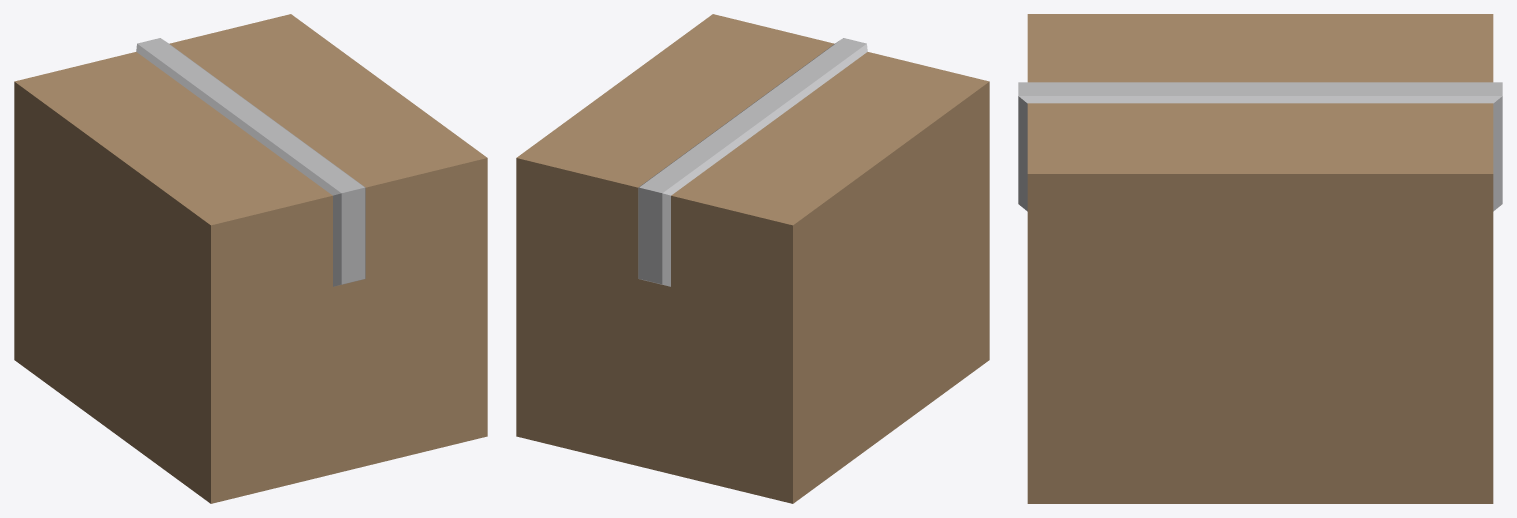
Rendered from BIG_Cardboard_BOX.fbx.
3 views of the same model, side by side, from view 1: azimuth 30°, elevation 25°; view 2: azimuth 150°, elevation 25°; view 3: azimuth 270°, elevation 25° (orthographic). The views are drawn at different scales.
Parts seen in each view (by area): view 1: Cube; view 2: Cube; view 3: Cube.
Boxes of the visible parts, x1,y1,x2,y2 form: Cube: (14, 14, 487, 503); Cube: (516, 14, 989, 503); Cube: (1018, 14, 1502, 503).
Bounding box in the file's own units: 122 × 156 × 119.
1 material, 1 textured.
